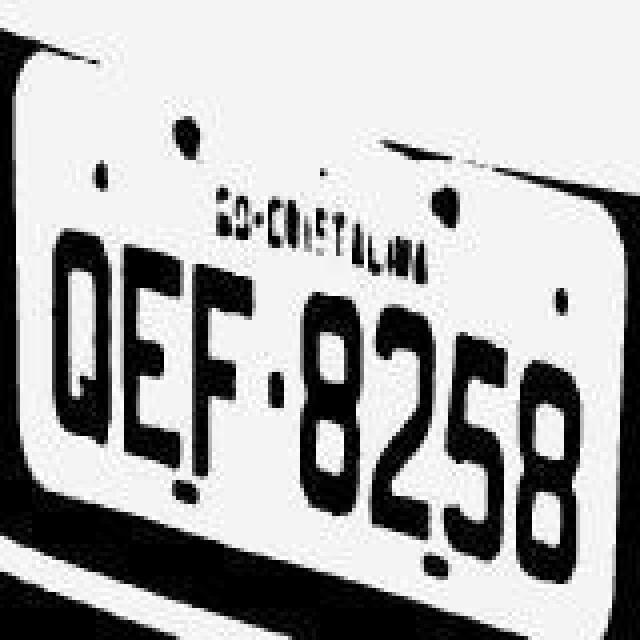2: (372, 306, 444, 534)
5: (446, 324, 514, 556)
8: (302, 282, 370, 510), (518, 368, 586, 592)
E: (122, 222, 190, 458)
F: (188, 256, 260, 464)
Q: (56, 212, 120, 444)
